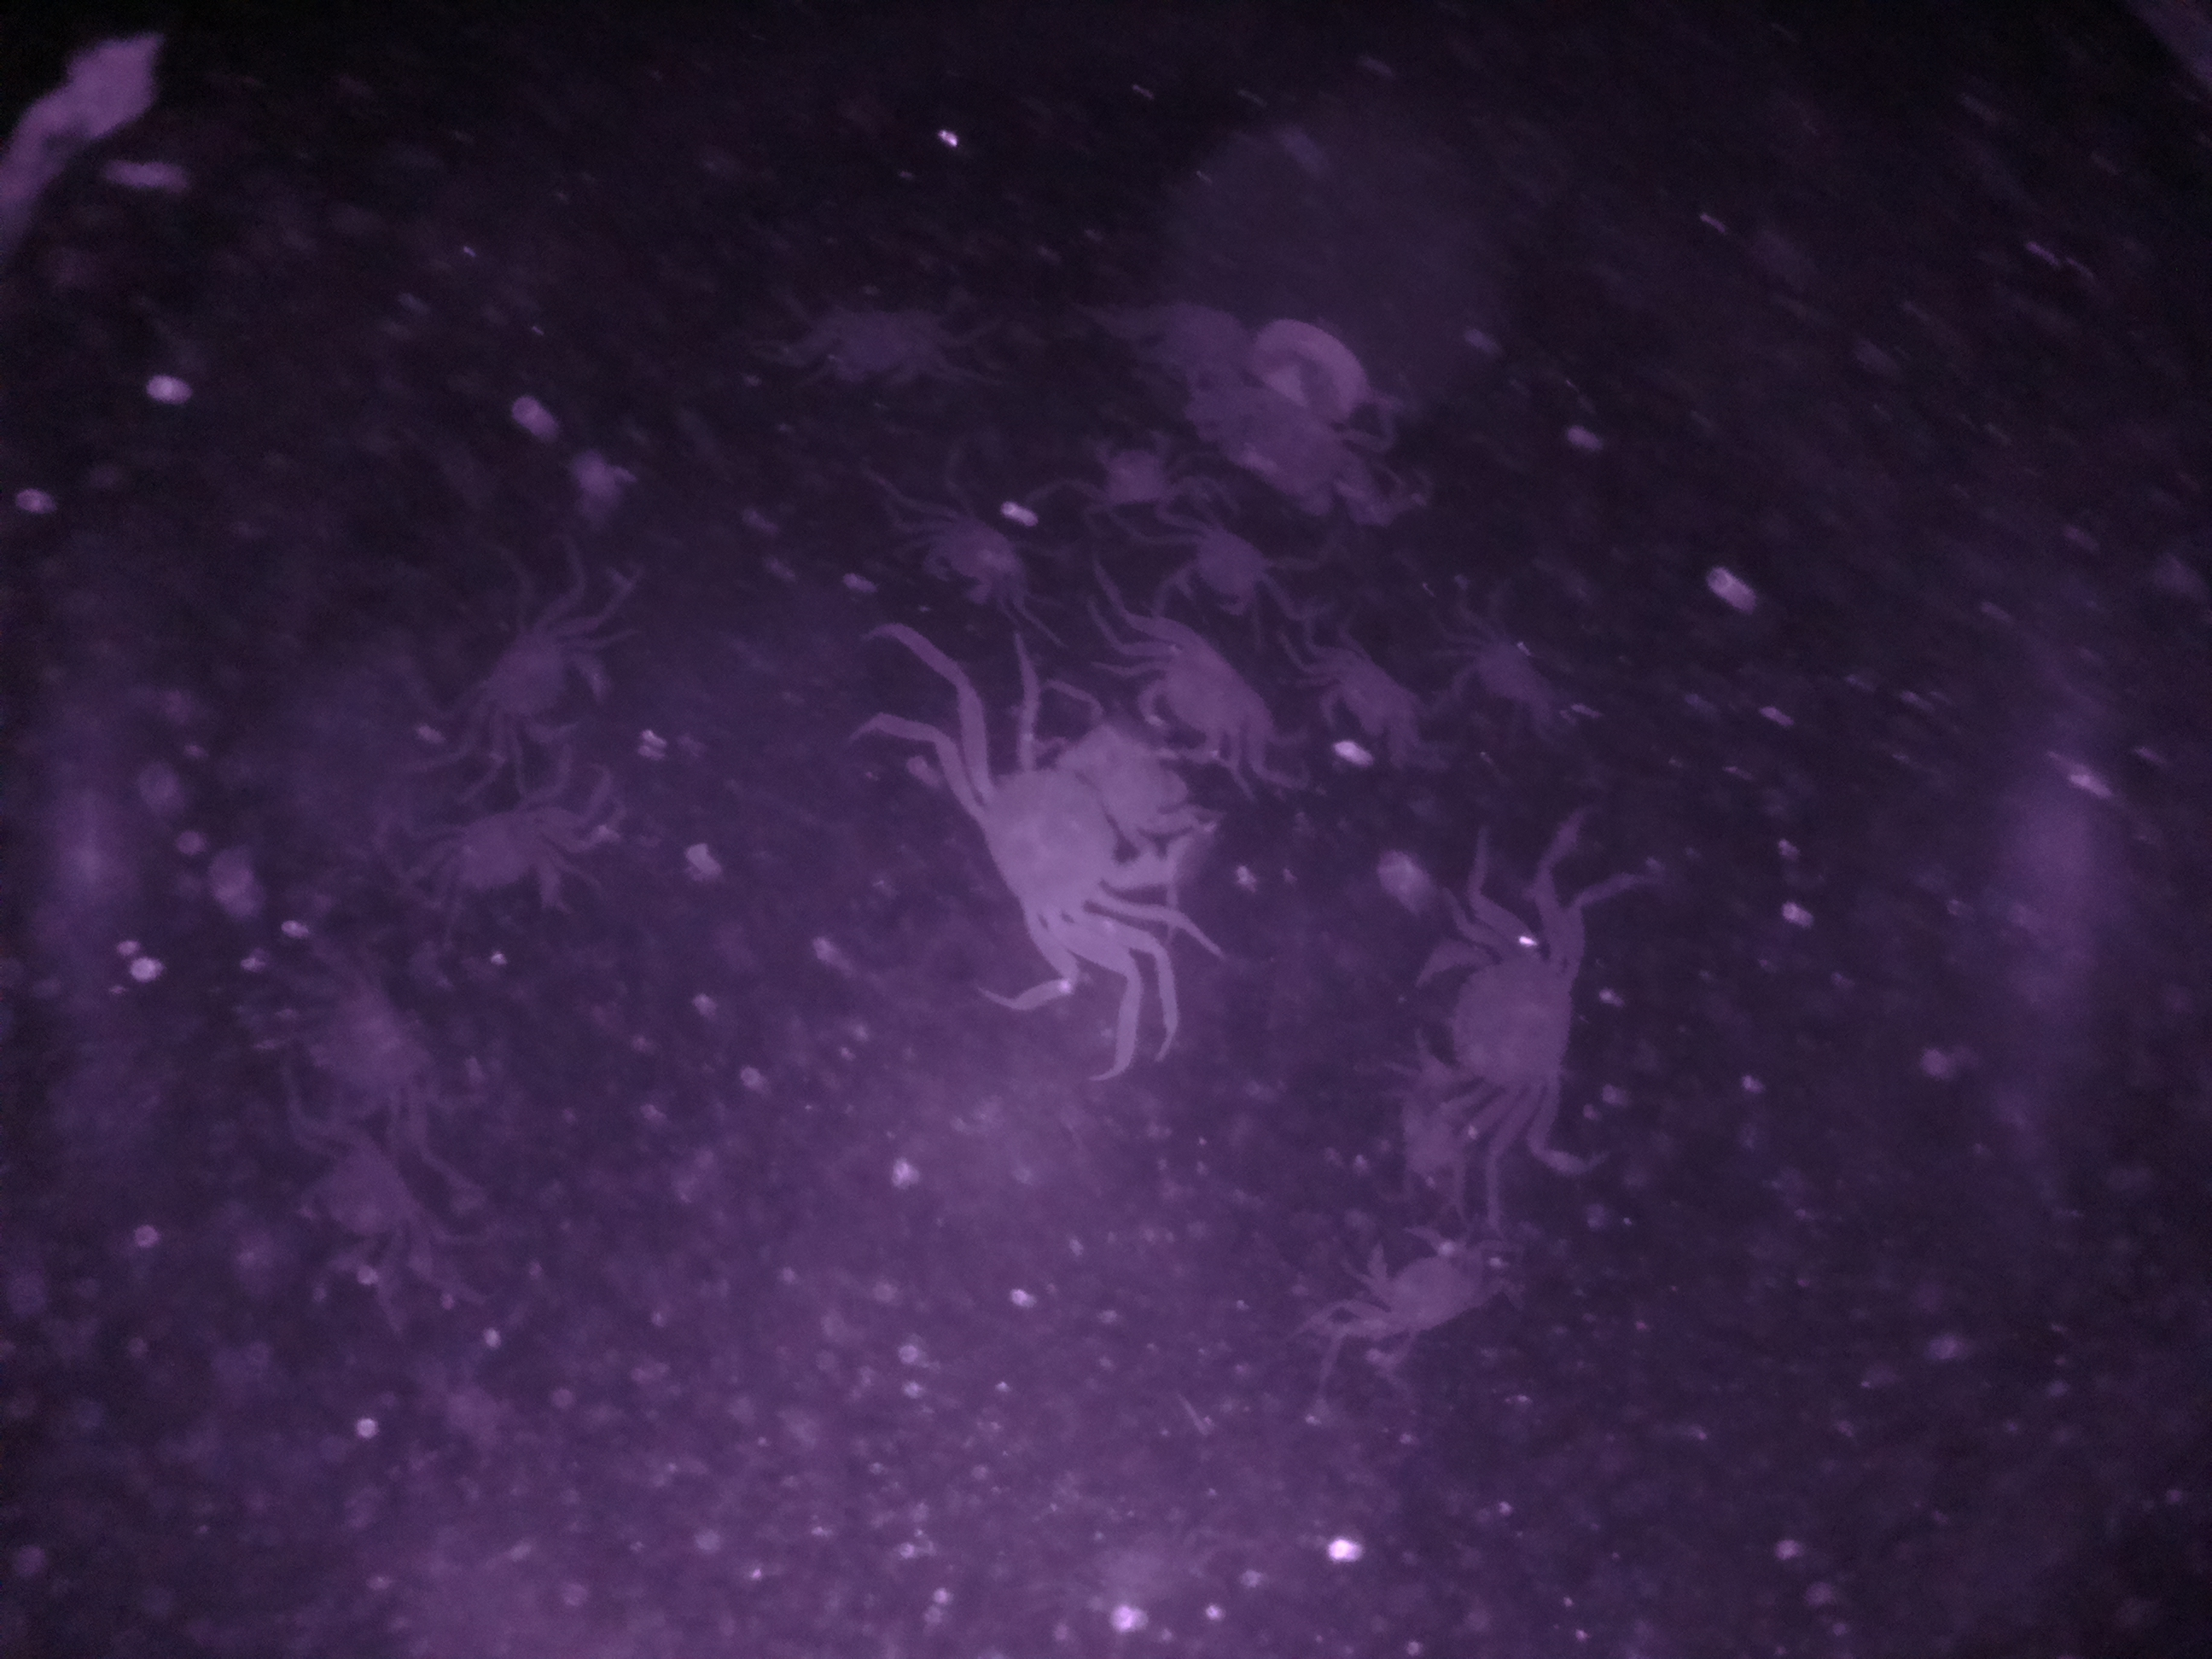Crab: (1390, 904, 1608, 1131), (1325, 1195, 1503, 1370), (408, 793, 618, 939), (449, 606, 627, 760), (1123, 622, 1271, 777), (1148, 493, 1292, 631), (894, 486, 1036, 615)
